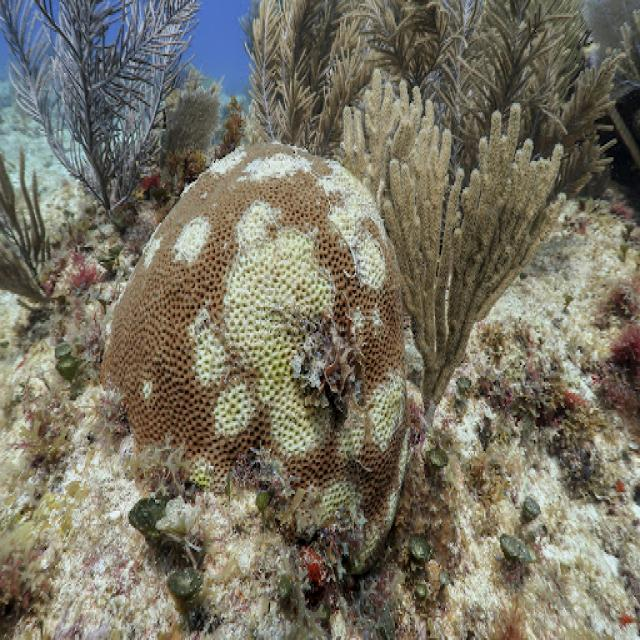Coral: (99, 141, 411, 573), (340, 66, 564, 422)
